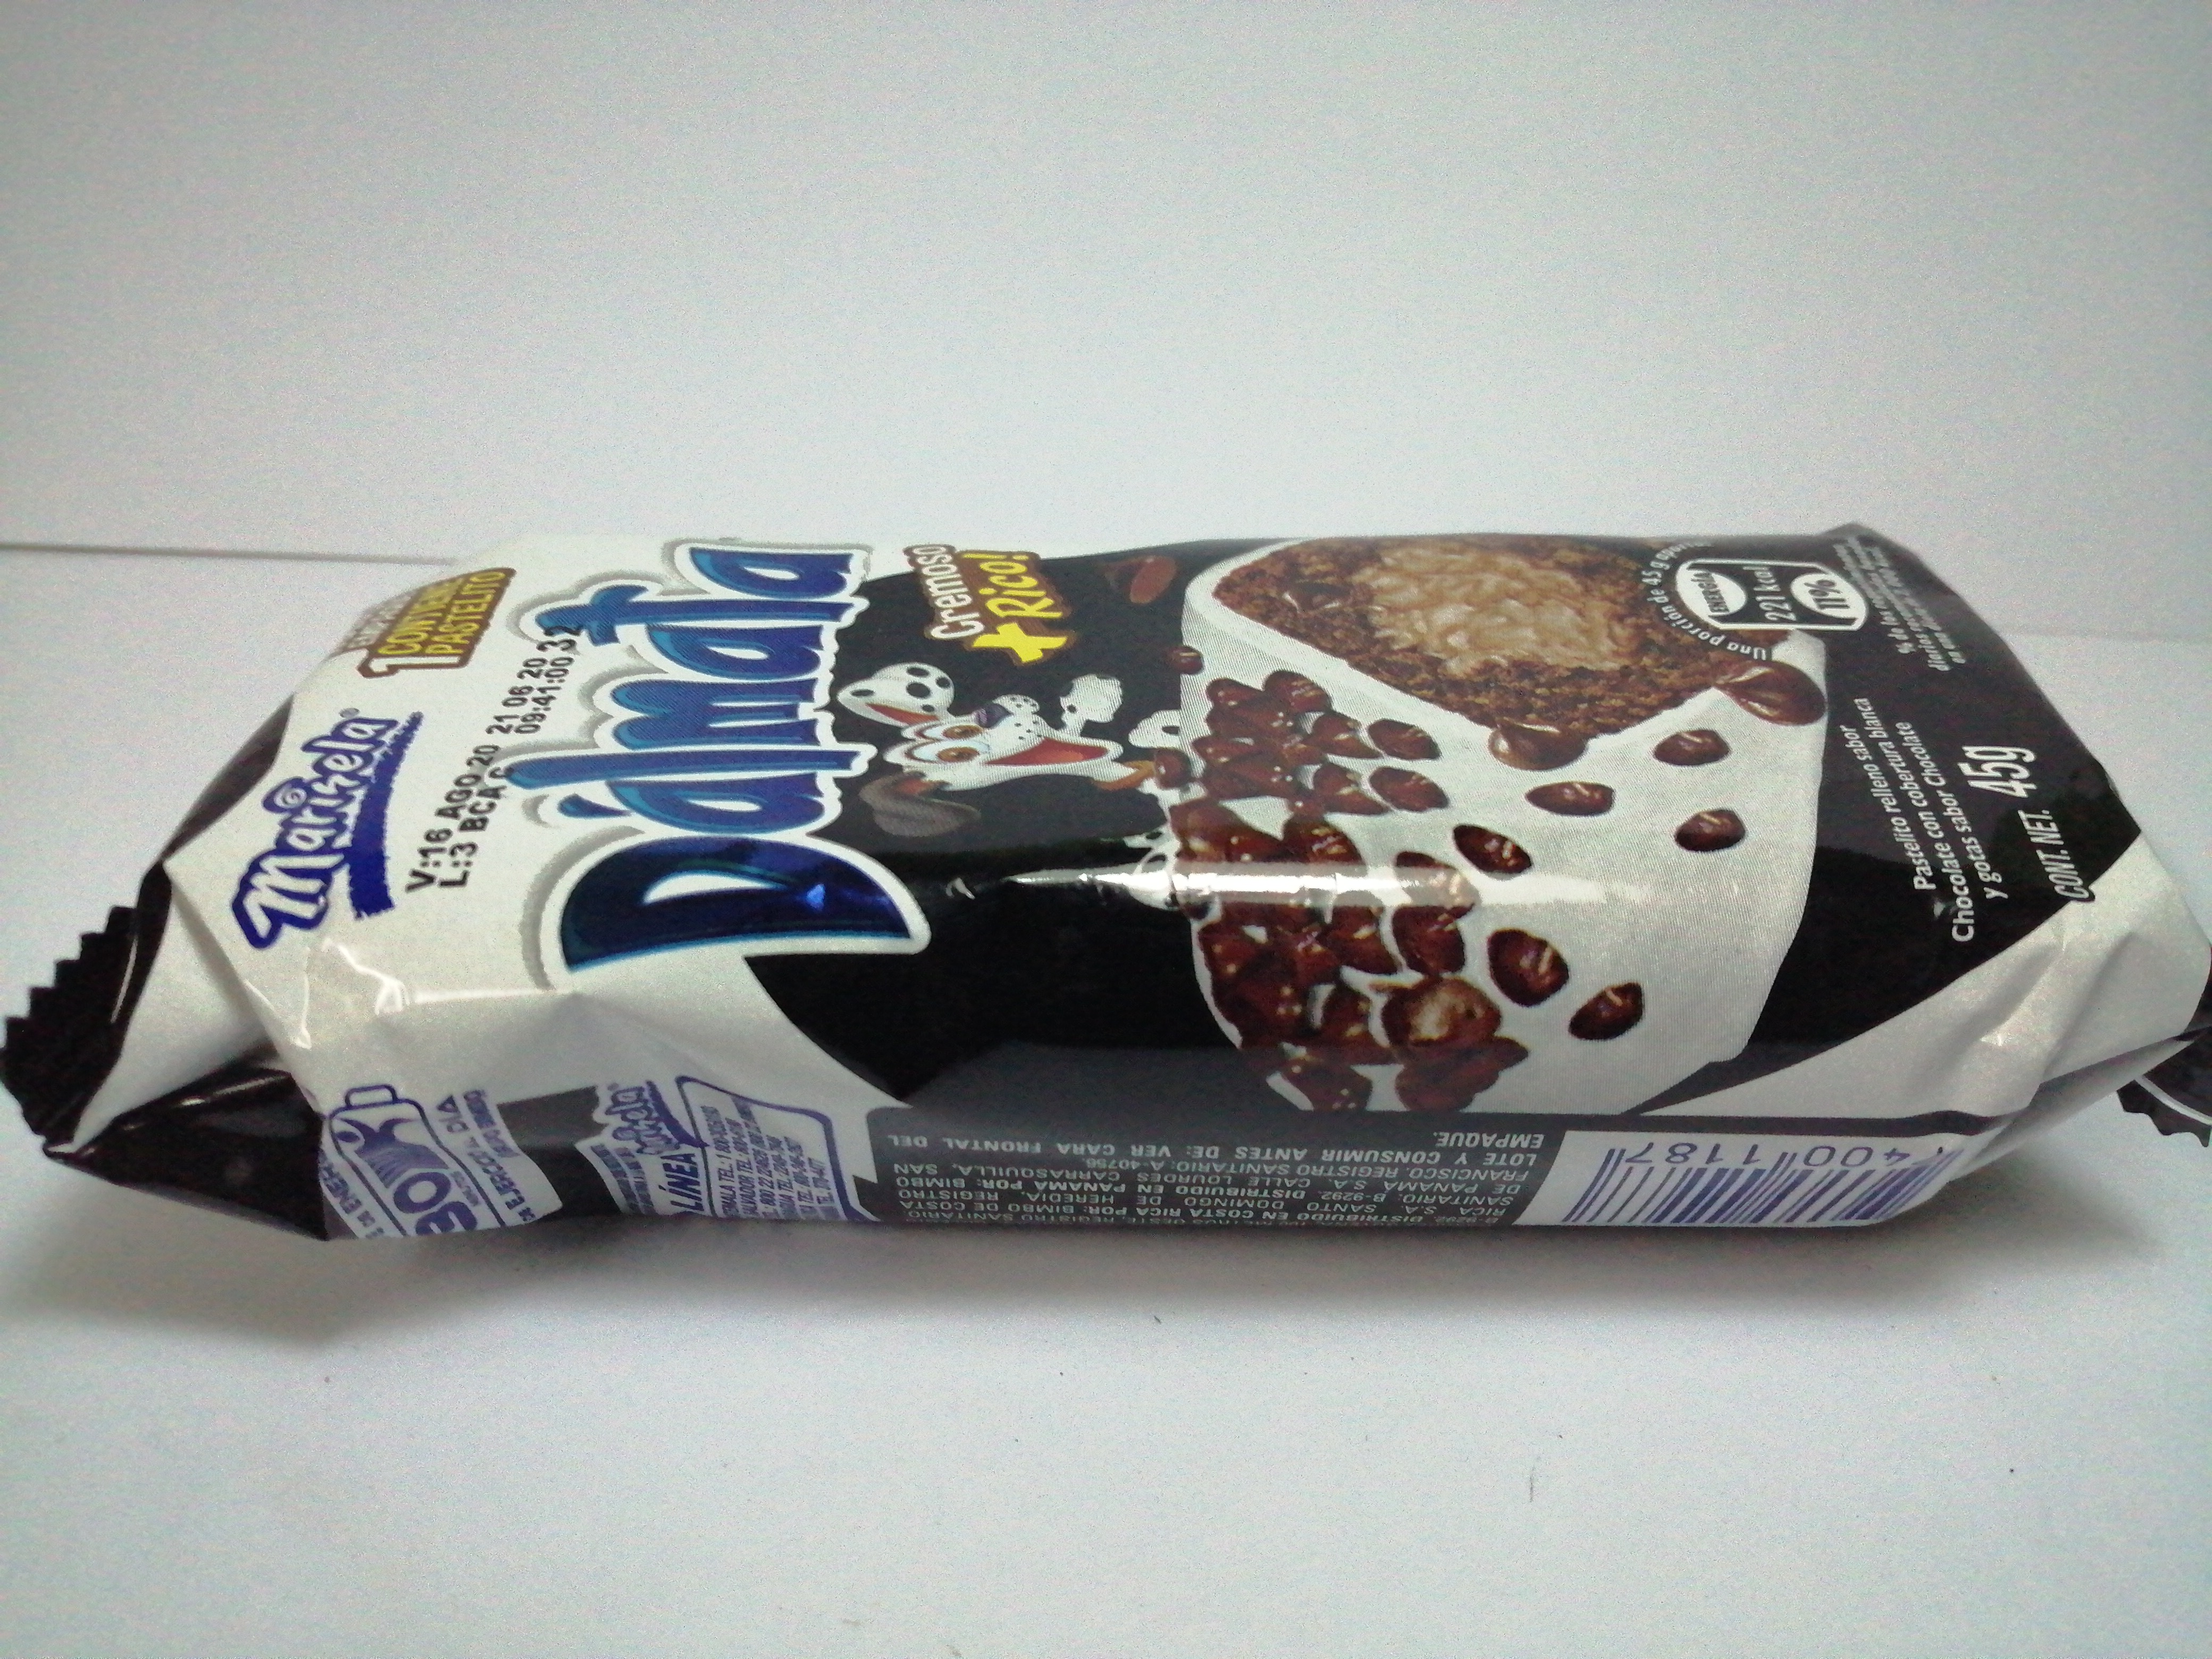dalmata: (0, 476, 2212, 1277)
